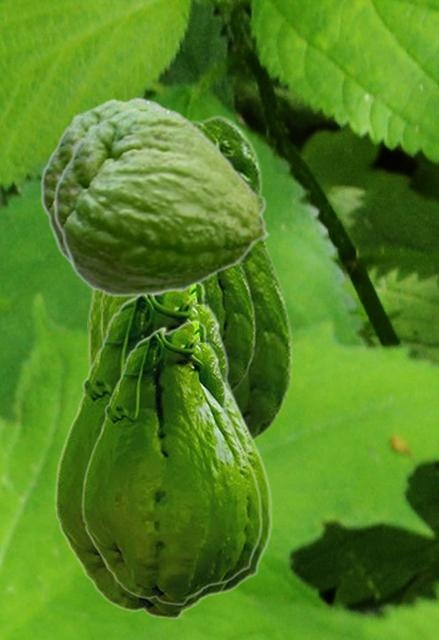sayote: (54, 283, 272, 619), (87, 114, 292, 442), (81, 319, 262, 605), (53, 105, 270, 297), (40, 96, 168, 266), (100, 262, 255, 392)
